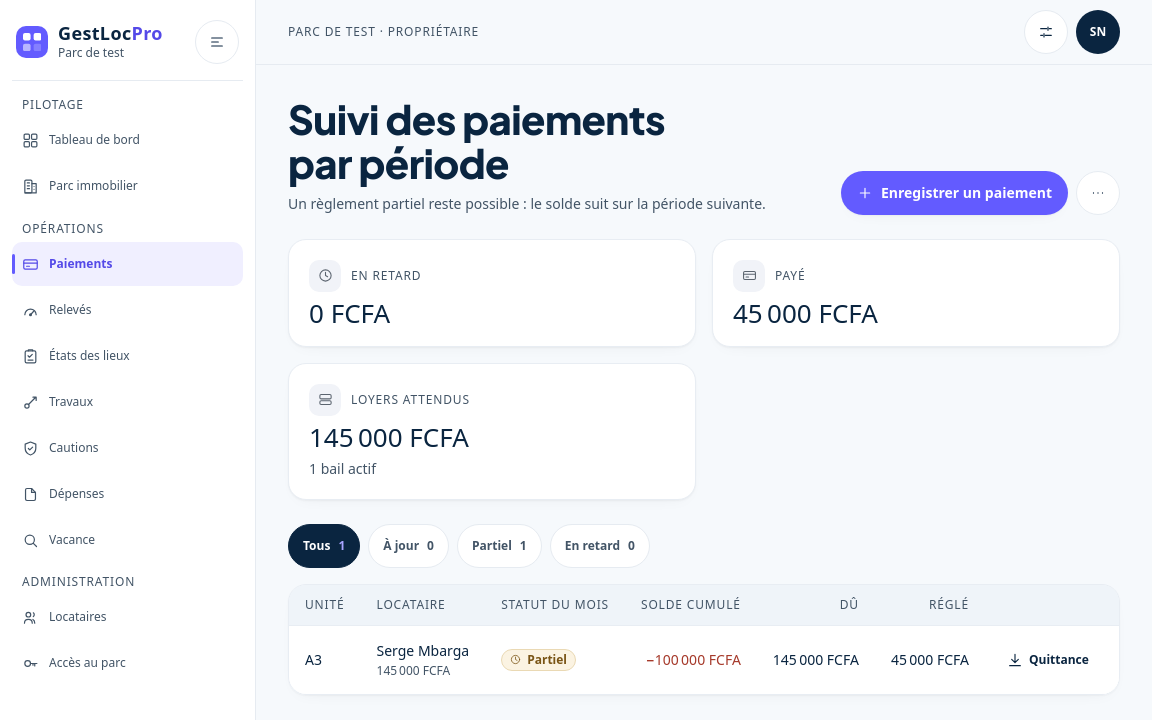
Test: l’encaissement › attend la réponse avant de se fermer et d’annoncer la quittance
Click the button "Enregistrer un paiement" at [954, 193], box [841,171,1068,215]
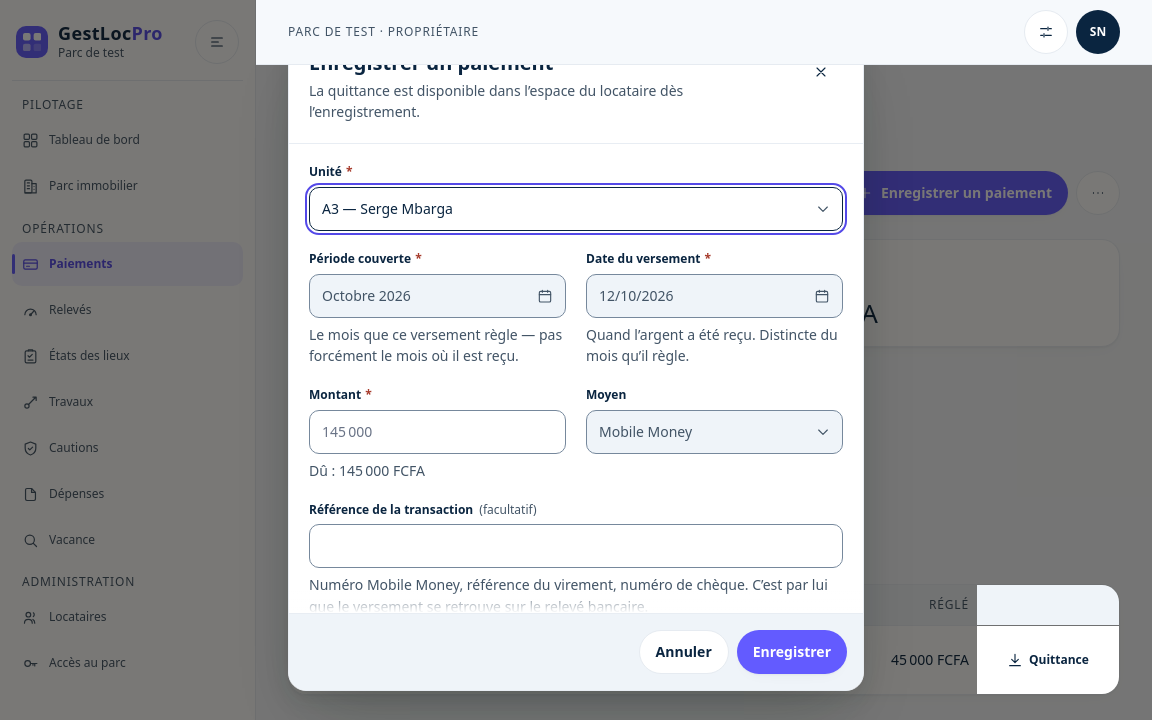
Type "100000" into the field labelled "Montant*" at [438, 432], box [309,410,566,454]
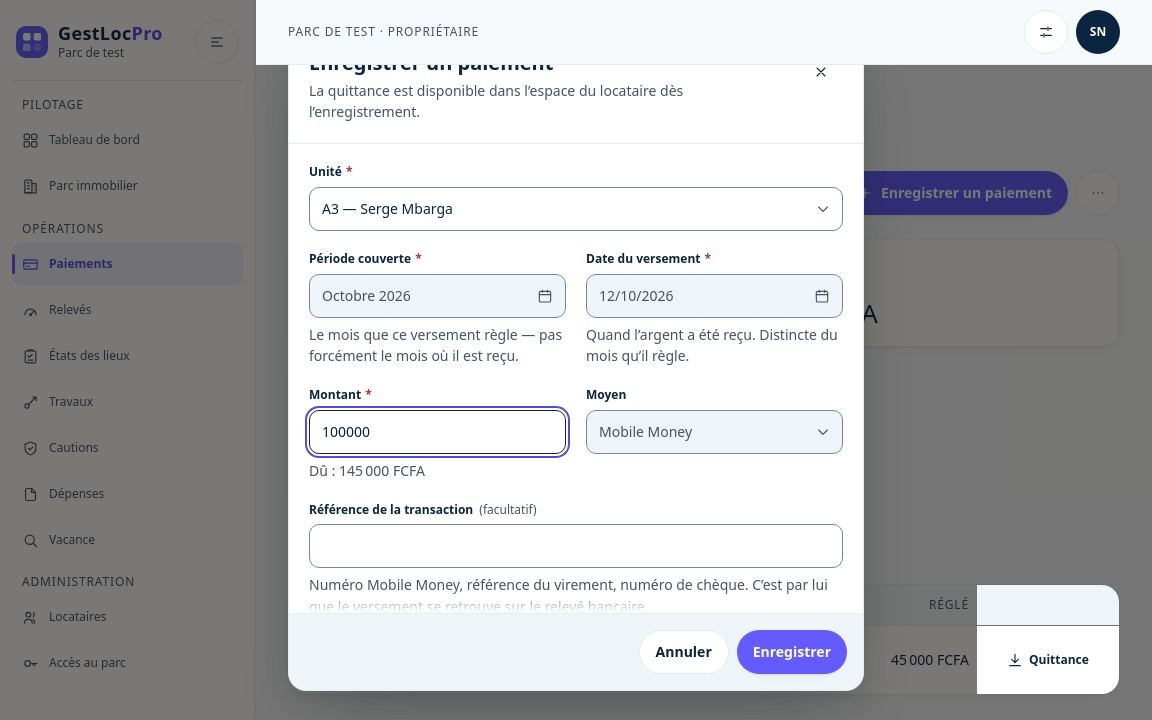
Click the button "Enregistrer" at [792, 652], box [737,630,847,674]
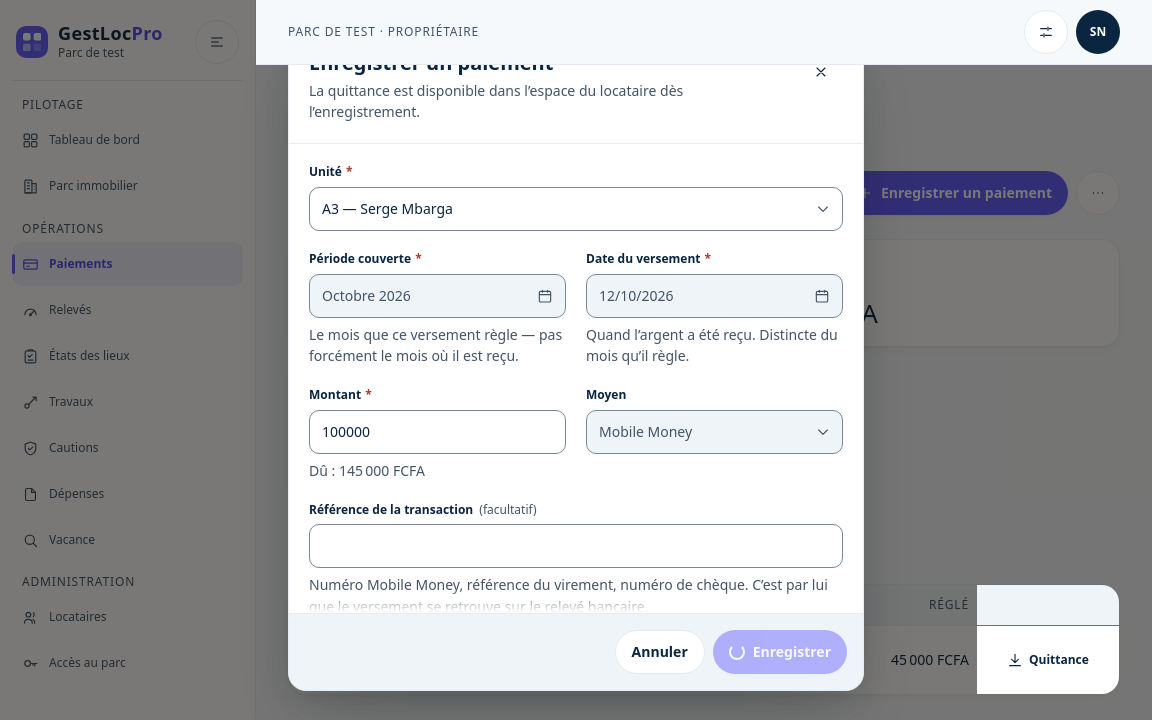
Expected: the dialog is shown, [288,29,864,691]
Click the button "Enregistrer" at [780, 652], box [713,630,847,674]
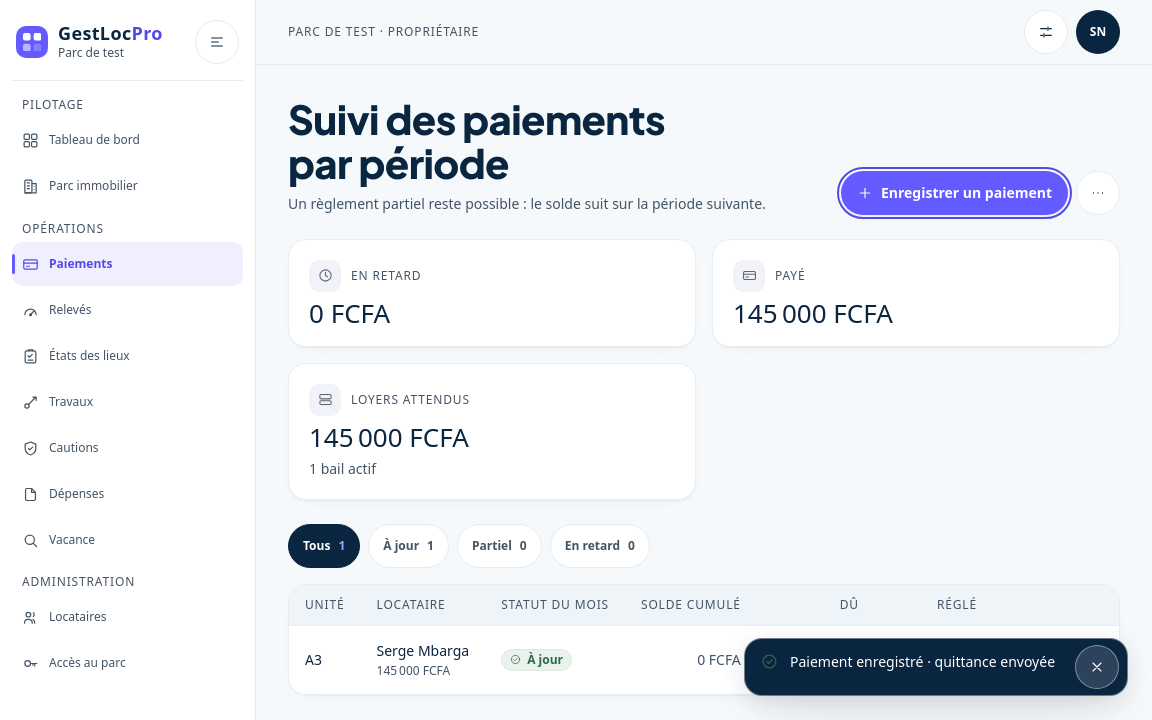
Expected: the dialog is gone
Expected: the text "Paiement enregistré · quittance envoyée" is shown, [790,651,1063,673]
